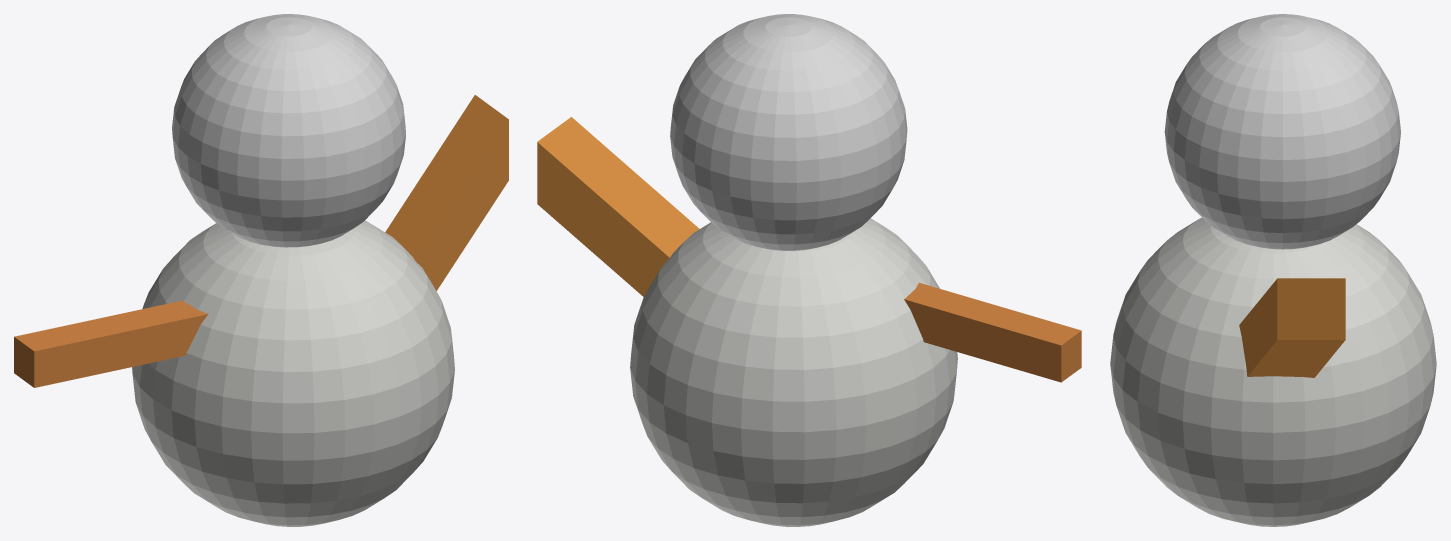
Rendered from snowman2.dae.
The picture shows the model from 3 angles, left to right: view 1: azimuth 30°, elevation 25°; view 2: azimuth 150°, elevation 25°; view 3: azimuth 270°, elevation 25°; orthographic projection.
Parts seen in each view (by area): view 1: 球, 球_001, Cube, 立方体; view 2: 球, 球_001, Cube, 立方体; view 3: 球, 球_001, Cube.
Boxes of the visible parts, x1,y1,x2,y2 form: 球: (132, 220, 454, 526); 球_001: (172, 14, 405, 247); Cube: (385, 95, 508, 290); 立方体: (14, 300, 208, 387); 球: (630, 218, 957, 526); 球_001: (670, 14, 907, 250); Cube: (537, 117, 699, 296); 立方体: (904, 282, 1081, 382); 球: (1110, 217, 1436, 526); 球_001: (1164, 14, 1400, 249); Cube: (1239, 278, 1345, 377).
Size of the model in its own units: 6.26 by 3.6 by 5.92.
